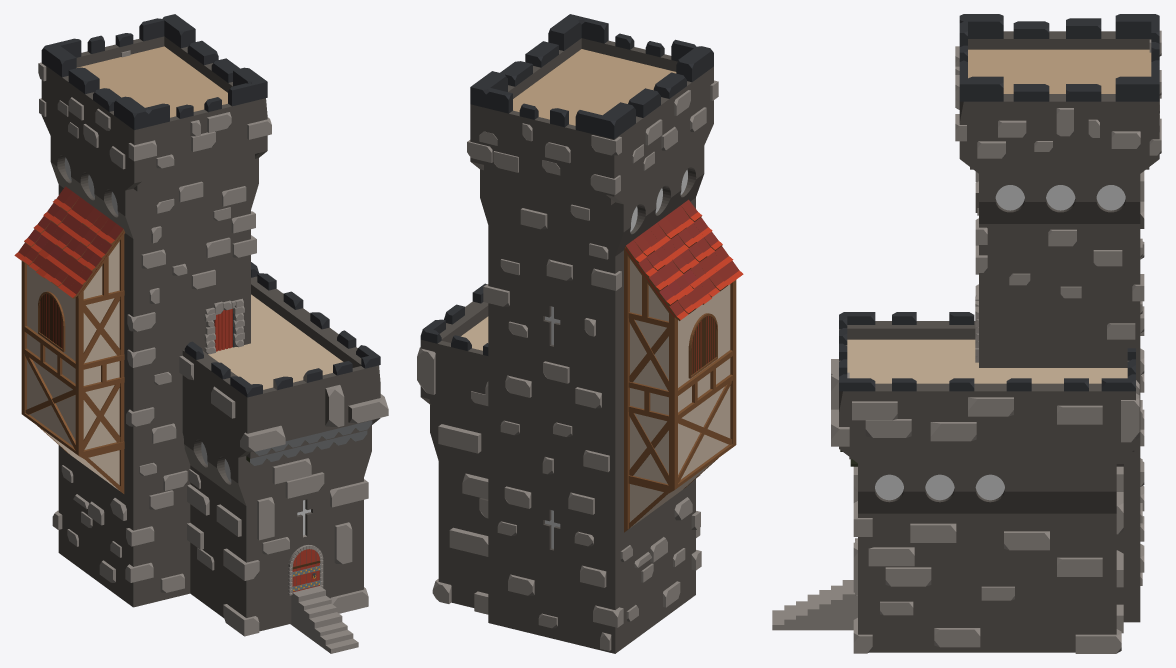
Rendered from SM_Hous_28_B.gltf.
3 renders of one model, left to right at view 1: azimuth 30°, elevation 25°; view 2: azimuth 150°, elevation 25°; view 3: azimuth 270°, elevation 25°, orthographic. The views are drawn at different scales.
Visible parts, largest first — view 1: SM_Hous_28_B; view 2: SM_Hous_28_B; view 3: SM_Hous_28_B.
Boxes of the visible parts, box(x1,y1,x2,y2) form: SM_Hous_28_B: box(14, 14, 388, 653); SM_Hous_28_B: box(417, 14, 743, 653); SM_Hous_28_B: box(772, 14, 1161, 653).
Bounding box in the file's own units: 12.19 × 24.46 × 15.87.
